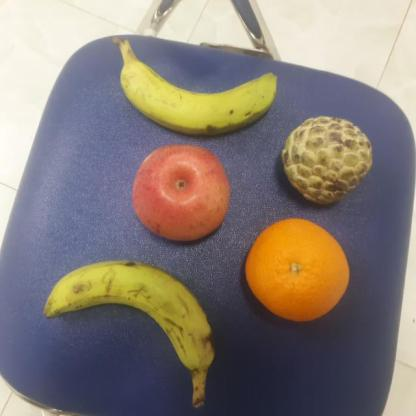annona: (280, 115, 374, 207)
apple: (130, 144, 230, 244)
banana: (42, 258, 216, 372), (118, 58, 278, 136)
orange: (237, 216, 352, 324)
